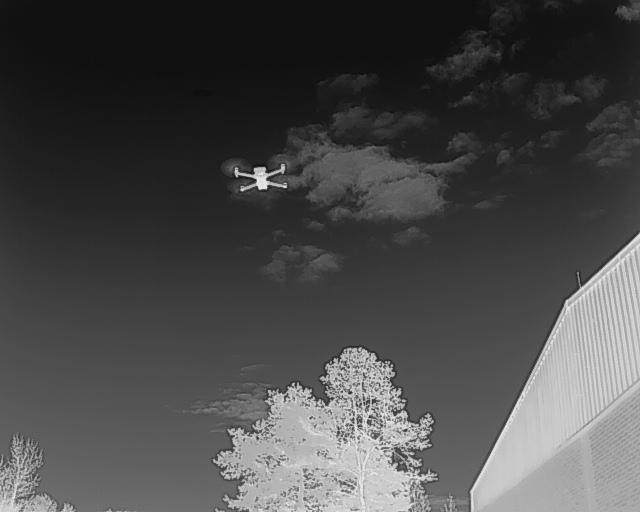drone: (216, 153, 306, 202)
